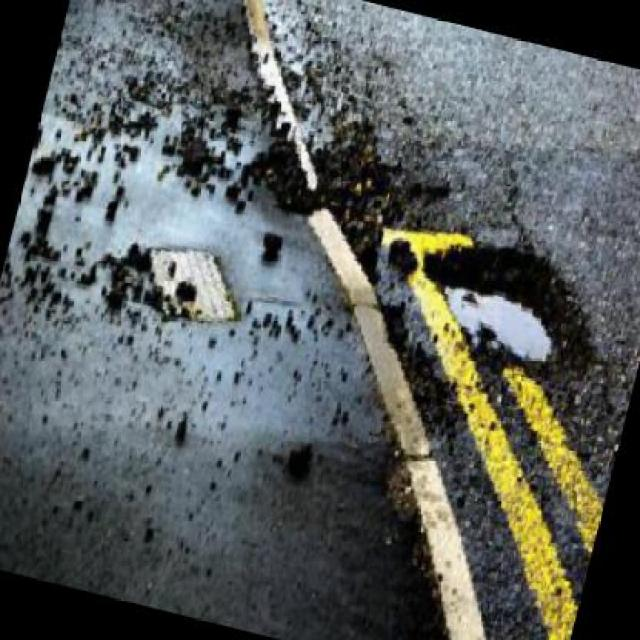pothole1: (400, 223, 615, 392)
